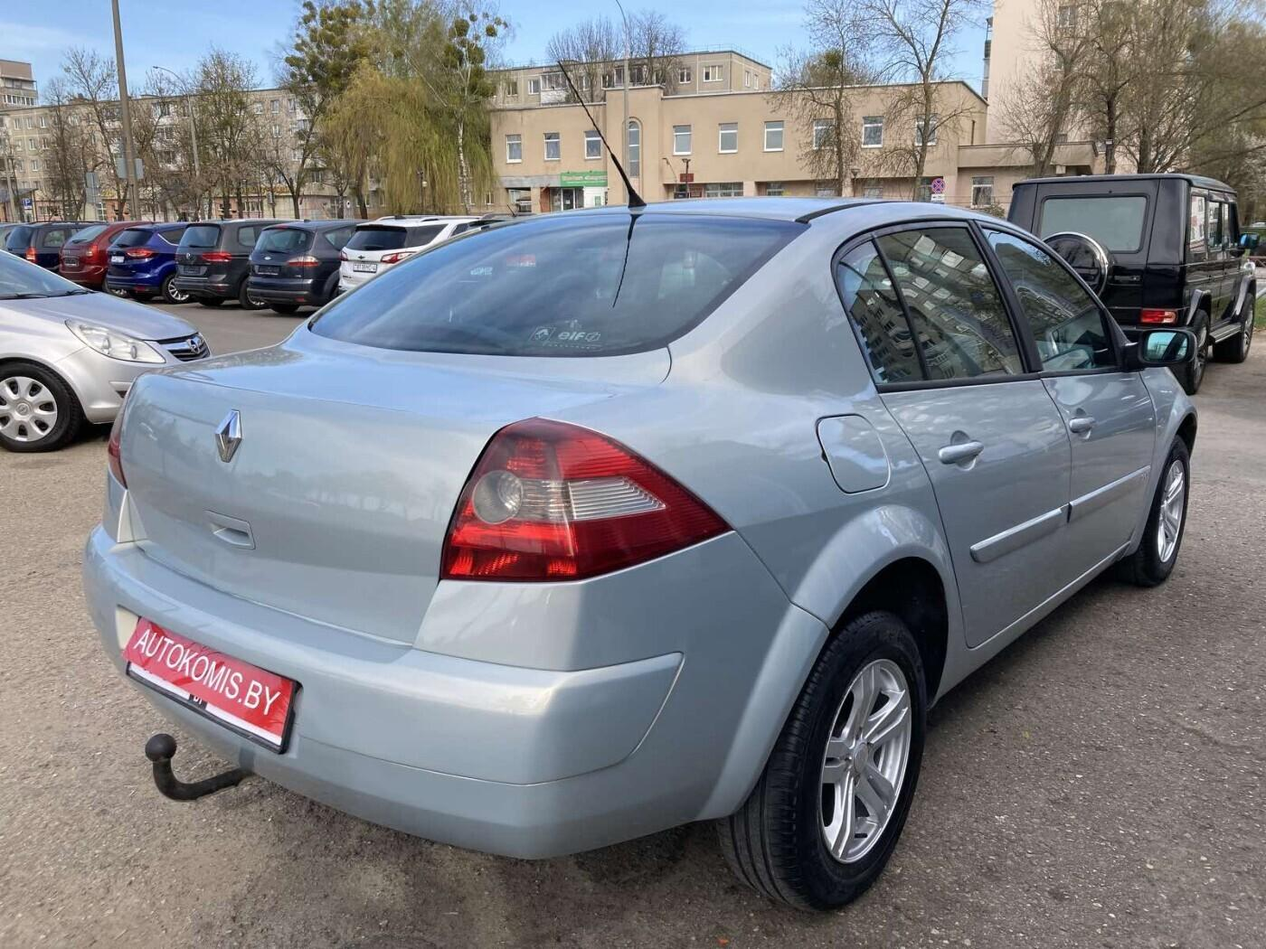Megane_2002-2006: (70, 191, 1209, 905)
